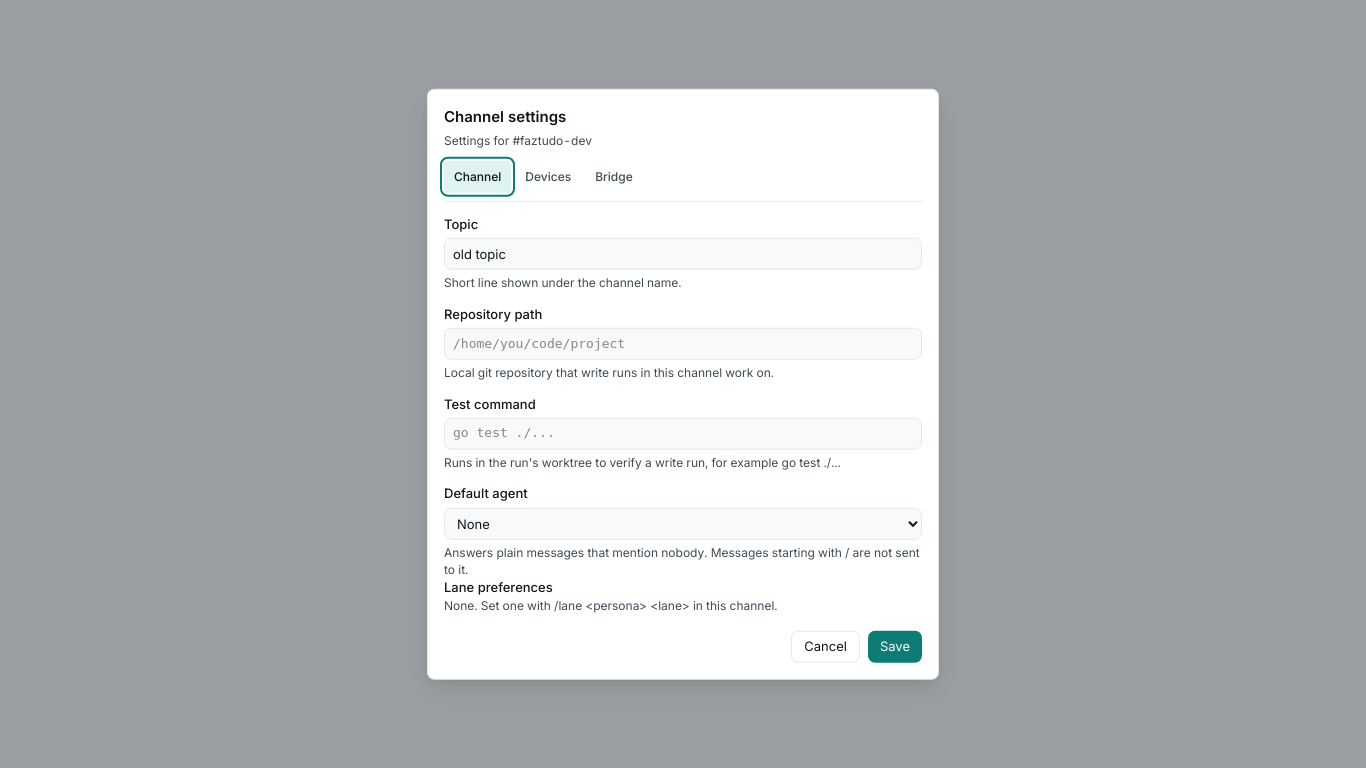
ChannelSettingsDialog › shows the server error inline for an invalid repo path and stays open
Type "/nope" into the field labelled "Repository path".
click(683, 344); type("/nope")  # box [444,328,922,360]
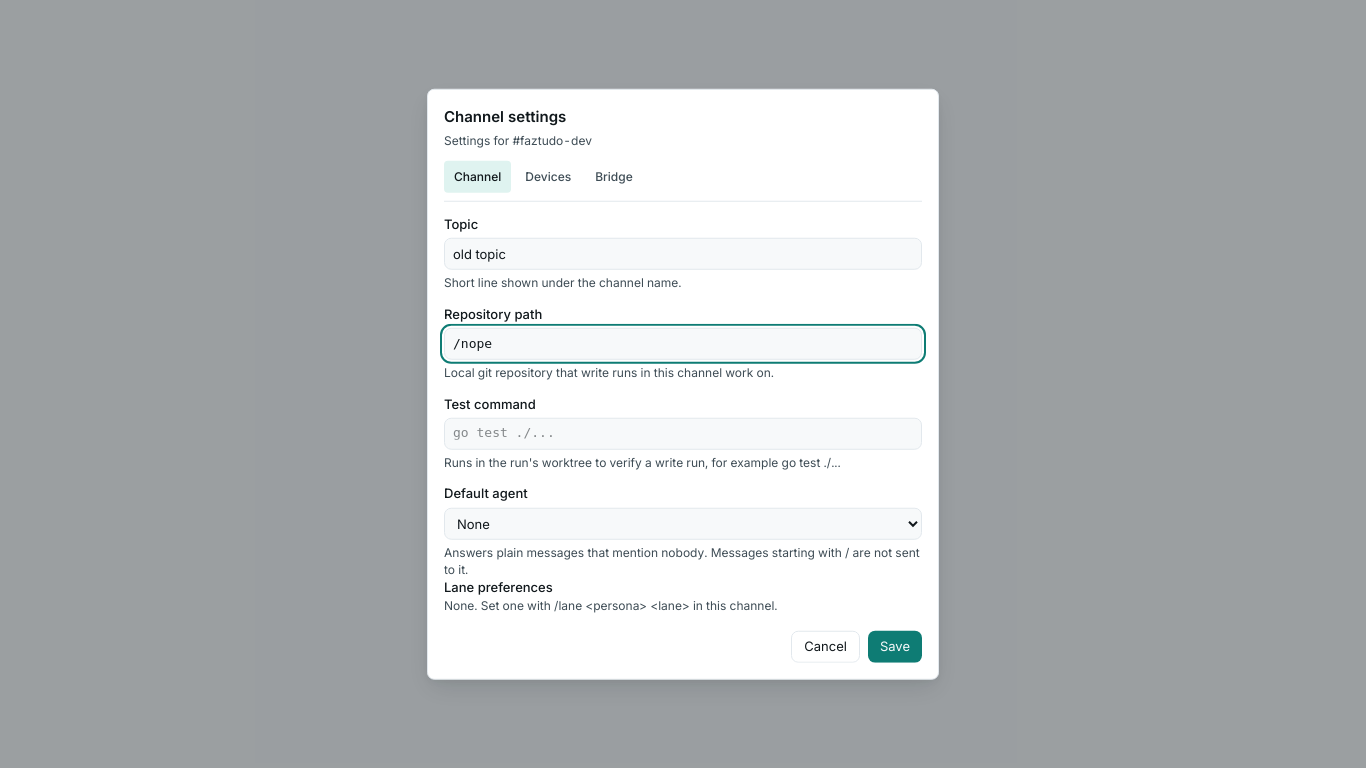
Click the button "Save".
click(895, 646)  # box [868,630,922,662]
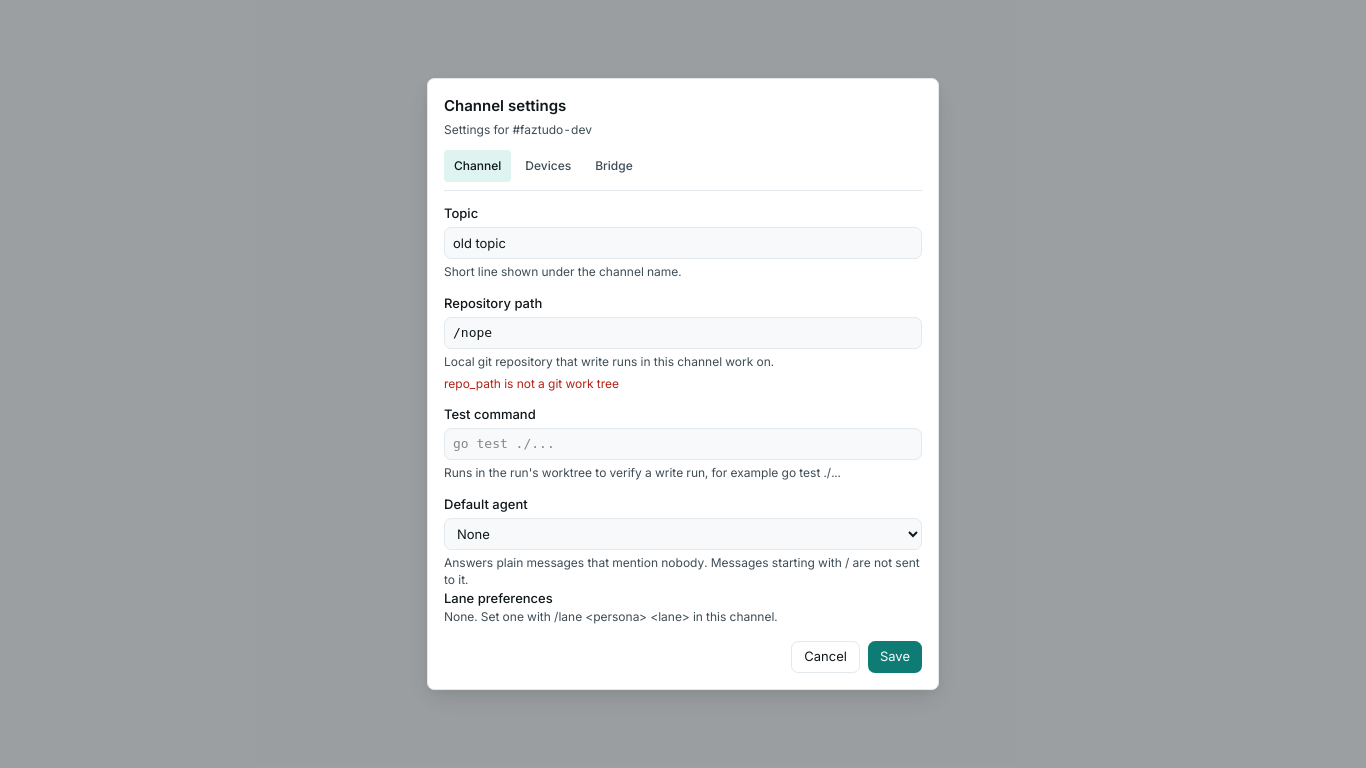
Check: the message reads "repo_path is not a git work tree", box [444,376,619,391]
